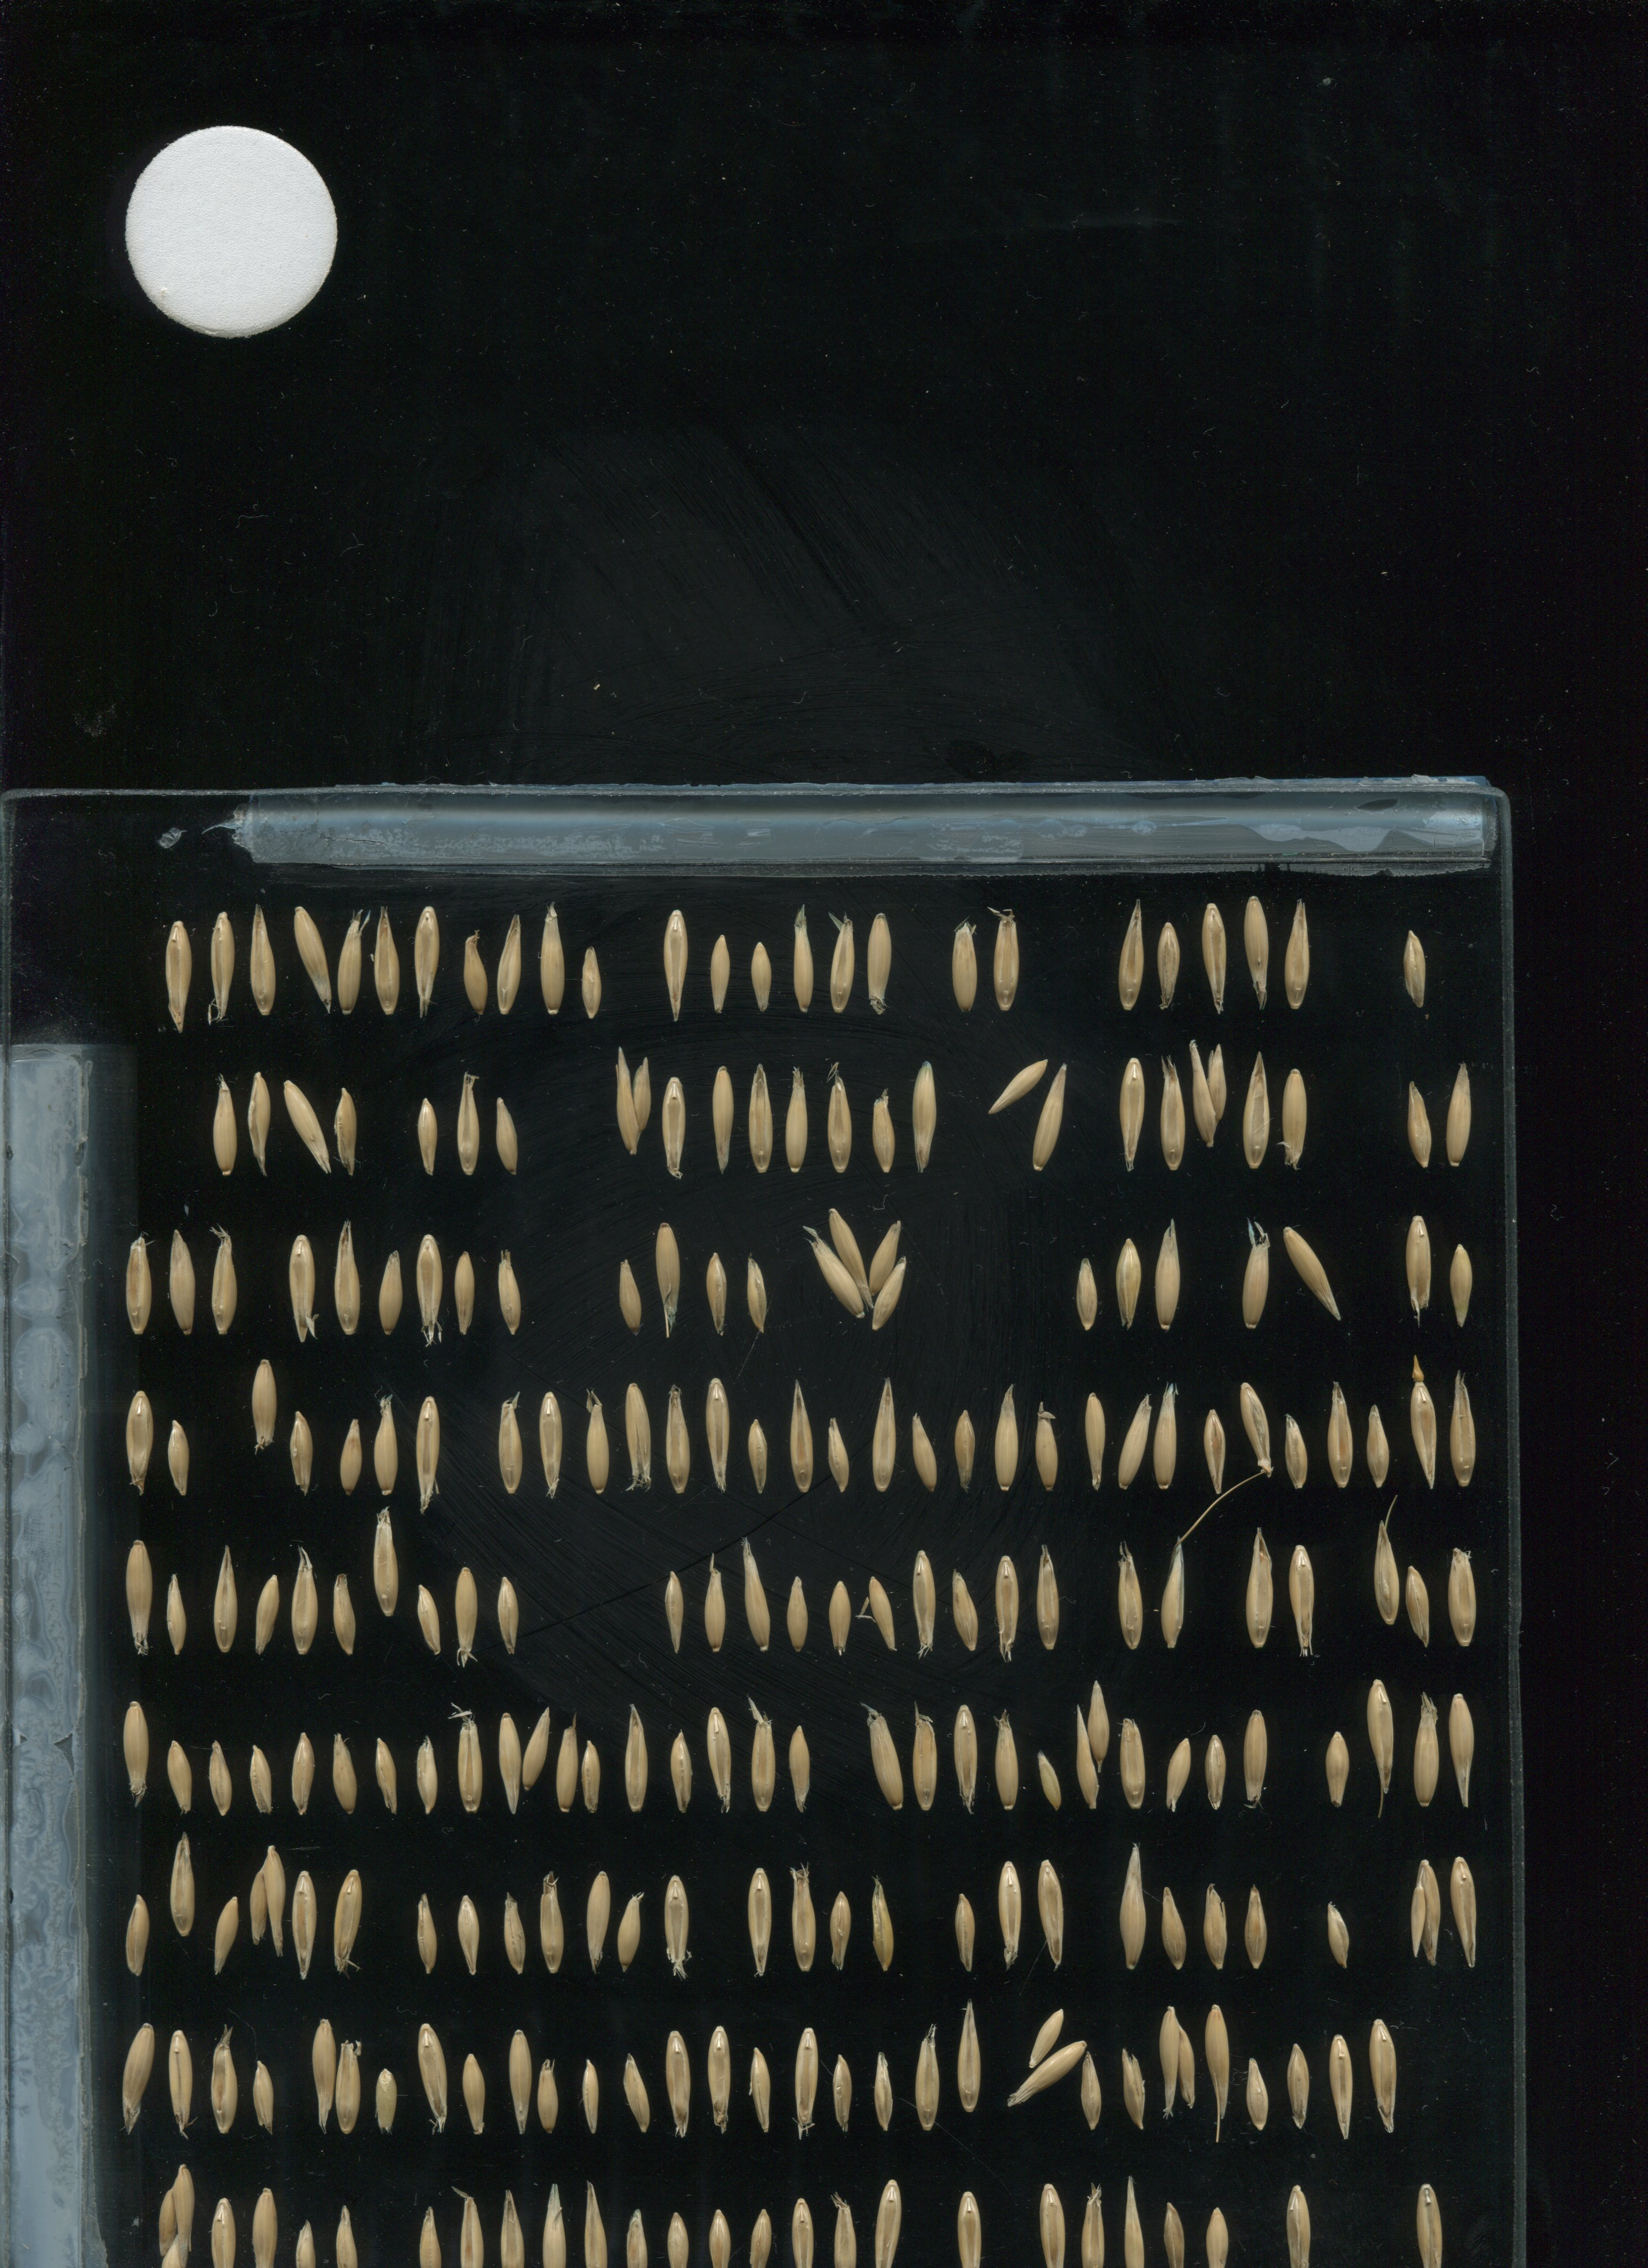NakedGrain: (1398, 924, 1433, 1016), (576, 944, 606, 1025), (373, 2064, 401, 2138), (1034, 1749, 1063, 1815), (1326, 1898, 1354, 1969)
WholeGrain: (1400, 1351, 1442, 1490), (1007, 2039, 1090, 2110), (1284, 1226, 1343, 1322), (806, 1236, 866, 1326), (283, 1078, 333, 1180), (294, 900, 335, 1023), (1028, 1060, 1070, 1176), (245, 905, 283, 1028), (405, 900, 444, 1023), (204, 1217, 243, 1340), (579, 1379, 618, 1502), (787, 2021, 826, 2145), (202, 909, 241, 1030), (333, 902, 372, 1023), (370, 902, 408, 1023), (493, 902, 532, 1023), (655, 900, 694, 1021), (787, 898, 826, 1020), (822, 900, 861, 1021), (859, 898, 898, 1020), (986, 900, 1025, 1021), (1196, 895, 1234, 1016), (208, 1064, 246, 1185), (701, 1060, 739, 1182), (743, 1057, 782, 1178), (780, 1057, 819, 1178), (820, 1060, 859, 1182), (907, 1053, 945, 1174), (1115, 1055, 1153, 1176), (1153, 1053, 1192, 1174), (1275, 1051, 1313, 1173), (1440, 1051, 1479, 1173), (120, 1219, 158, 1340), (410, 1224, 449, 1345), (1150, 1215, 1188, 1336), (121, 1384, 160, 1506), (410, 1391, 449, 1513), (530, 1382, 569, 1504), (620, 1379, 658, 1500), (701, 1373, 739, 1495), (1078, 1373, 1116, 1495), (449, 1062, 488, 1183), (208, 1535, 246, 1657), (285, 1541, 324, 1662), (447, 1550, 486, 1671), (907, 1541, 945, 1662), (986, 1541, 1025, 1662), (1111, 1535, 1150, 1657), (1155, 1537, 1194, 1659), (1284, 1541, 1322, 1662), (1444, 1534, 1482, 1655), (1407, 1689, 1446, 1810), (1234, 1699, 1273, 1821), (1113, 1703, 1151, 1824), (945, 1696, 984, 1817), (614, 1696, 653, 1817), (533, 1858, 572, 1979), (576, 1858, 614, 1979), (658, 1859, 697, 1981), (741, 1856, 780, 1977), (990, 1852, 1028, 1974), (1028, 1852, 1067, 1974), (1405, 1856, 1444, 1977), (907, 2016, 945, 2138), (951, 1997, 990, 2118), (1199, 2002, 1238, 2124), (1324, 2021, 1363, 2143), (1157, 2002, 1197, 2118), (1278, 895, 1315, 1018), (1030, 1537, 1067, 1660), (1363, 1676, 1400, 1800), (329, 1859, 366, 1983), (158, 917, 195, 1039), (533, 898, 570, 1020), (947, 905, 984, 1027), (1115, 893, 1151, 1014), (1238, 893, 1275, 1014), (241, 1062, 278, 1183), (657, 1062, 694, 1183), (1236, 1049, 1273, 1171), (166, 1219, 202, 1340), (287, 1222, 324, 1344), (327, 1222, 364, 1344), (653, 1220, 690, 1342), (1109, 1217, 1146, 1338), (1236, 1213, 1273, 1335), (1403, 1208, 1440, 1329), (368, 1384, 405, 1506), (489, 1384, 526, 1506), (658, 1379, 695, 1500), (782, 1373, 819, 1495), (864, 1372, 901, 1493), (991, 1372, 1028, 1493), (1150, 1372, 1187, 1493), (1240, 1370, 1276, 1491), (1322, 1368, 1359, 1490), (1447, 1365, 1484, 1486), (120, 1534, 157, 1655), (366, 1507, 403, 1629), (738, 1537, 775, 1659), (1241, 1530, 1278, 1652), (1366, 1509, 1403, 1631), (1446, 1685, 1482, 1807), (990, 1703, 1026, 1824), (907, 1697, 944, 1819), (866, 1699, 903, 1821), (745, 1696, 782, 1817), (701, 1694, 738, 1815), (452, 1694, 489, 1815), (118, 1685, 155, 1807), (166, 1826, 202, 1948), (287, 1859, 324, 1981), (784, 1856, 820, 1977), (1444, 1851, 1481, 1972), (120, 2014, 157, 2136), (160, 2018, 197, 2139), (206, 2018, 243, 2139), (416, 2018, 452, 2139), (502, 2018, 539, 2139), (658, 2025, 695, 2146), (697, 2023, 734, 2145), (1365, 2014, 1402, 2136), (1115, 1844, 1146, 1974), (305, 2013, 338, 2136), (155, 2159, 192, 2268), (826, 1204, 870, 1296), (250, 1844, 283, 1963), (866, 1215, 909, 1307), (866, 1254, 912, 1336), (1185, 1034, 1215, 1152), (782, 1720, 819, 1815), (991, 1058, 1048, 1118), (1280, 2178, 1317, 2268), (1032, 2178, 1069, 2268), (951, 2178, 988, 2268), (572, 2178, 609, 2268), (535, 2178, 572, 2268), (491, 2178, 528, 2268), (246, 2178, 283, 2268), (872, 2178, 909, 2266), (248, 1358, 282, 1454), (1410, 2178, 1446, 2268), (1113, 2178, 1148, 2268), (1076, 2178, 1111, 2268), (202, 2178, 238, 2268), (613, 1042, 639, 1162), (335, 2039, 364, 2143), (519, 1703, 553, 1794), (460, 933, 493, 1023), (745, 931, 778, 1021), (1151, 917, 1185, 1007), (1069, 1248, 1102, 1338), (739, 1247, 773, 1336), (701, 1247, 734, 1336), (160, 1412, 194, 1502), (824, 1572, 857, 1662), (410, 1574, 444, 1664), (287, 1727, 320, 1817), (368, 1729, 401, 1819), (553, 1726, 586, 1815), (667, 1726, 701, 1815), (1162, 1729, 1196, 1819), (1199, 1729, 1232, 1819), (1240, 1882, 1273, 1972), (1159, 1884, 1192, 1974), (947, 1888, 981, 1977), (616, 1888, 650, 1977), (451, 1889, 484, 1979), (1282, 2041, 1315, 2131), (828, 2051, 861, 2141), (533, 2053, 567, 2143), (456, 2050, 489, 2139), (248, 2046, 282, 2136), (451, 2191, 489, 2268), (704, 933, 738, 1021), (1400, 1079, 1433, 1167), (866, 1092, 900, 1180), (491, 1090, 525, 1178), (414, 1095, 447, 1183), (329, 1086, 363, 1174), (1446, 1241, 1479, 1329), (614, 1252, 648, 1340), (493, 1250, 526, 1338), (451, 1247, 484, 1335), (375, 1247, 408, 1335), (1361, 1402, 1394, 1490), (1199, 1407, 1232, 1495), (1030, 1403, 1063, 1491), (949, 1402, 982, 1490), (907, 1407, 940, 1495), (822, 1407, 856, 1495), (739, 1407, 773, 1495), (335, 1412, 368, 1500), (285, 1409, 319, 1497), (1402, 1560, 1435, 1648), (864, 1569, 898, 1657), (780, 1572, 813, 1660), (699, 1565, 732, 1653), (657, 1565, 690, 1653), (491, 1571, 525, 1659), (327, 1571, 361, 1659), (158, 1571, 192, 1659), (166, 1733, 199, 1821), (202, 1733, 236, 1821), (243, 1734, 276, 1822), (326, 1729, 359, 1817), (410, 1729, 444, 1817), (576, 1727, 609, 1815), (1321, 1727, 1354, 1815), (1199, 1881, 1232, 1969), (864, 1884, 898, 1972), (824, 1886, 857, 1974), (495, 1889, 528, 1977), (408, 1889, 442, 1977), (210, 1891, 243, 1979), (120, 1891, 153, 1979), (1240, 2050, 1273, 2138), (1116, 2043, 1150, 2131), (1078, 2044, 1111, 2132), (864, 2048, 898, 2136), (745, 2046, 778, 2134), (620, 2051, 653, 2139), (574, 2055, 607, 2143), (1074, 1701, 1100, 1812), (250, 1569, 282, 1659), (1280, 1405, 1312, 1493), (1025, 2006, 1065, 2073), (498, 1710, 523, 1819), (785, 2192, 820, 2268), (1086, 1680, 1113, 1775), (629, 1049, 655, 1138), (412, 2199, 445, 2268), (620, 2199, 653, 2268), (701, 2199, 734, 2268), (1159, 2198, 1192, 2266), (831, 2199, 864, 2266), (331, 2199, 363, 2268), (660, 2199, 692, 2268), (745, 2199, 776, 2268), (1203, 2199, 1234, 2268), (1204, 1037, 1229, 1125), (289, 2215, 320, 2268)
